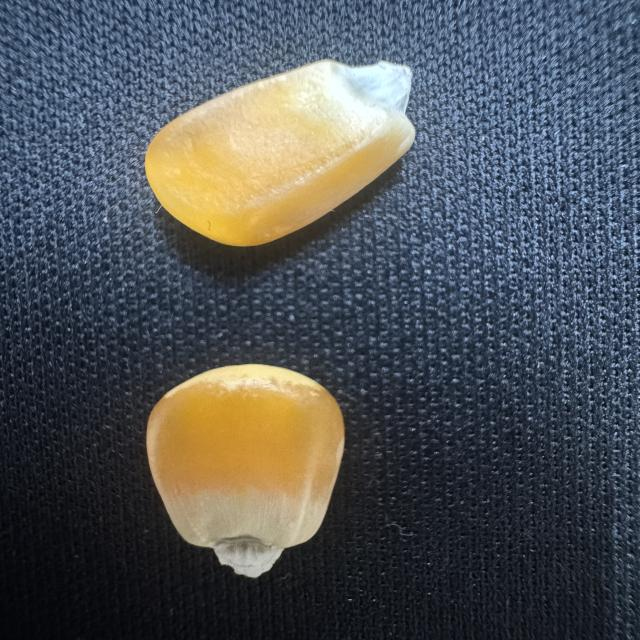Good-Seed: (140, 54, 419, 250), (139, 360, 351, 581)
